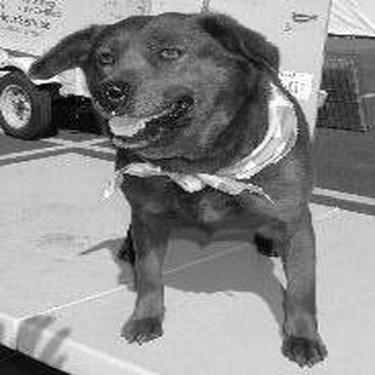dog: (26, 4, 333, 371)
